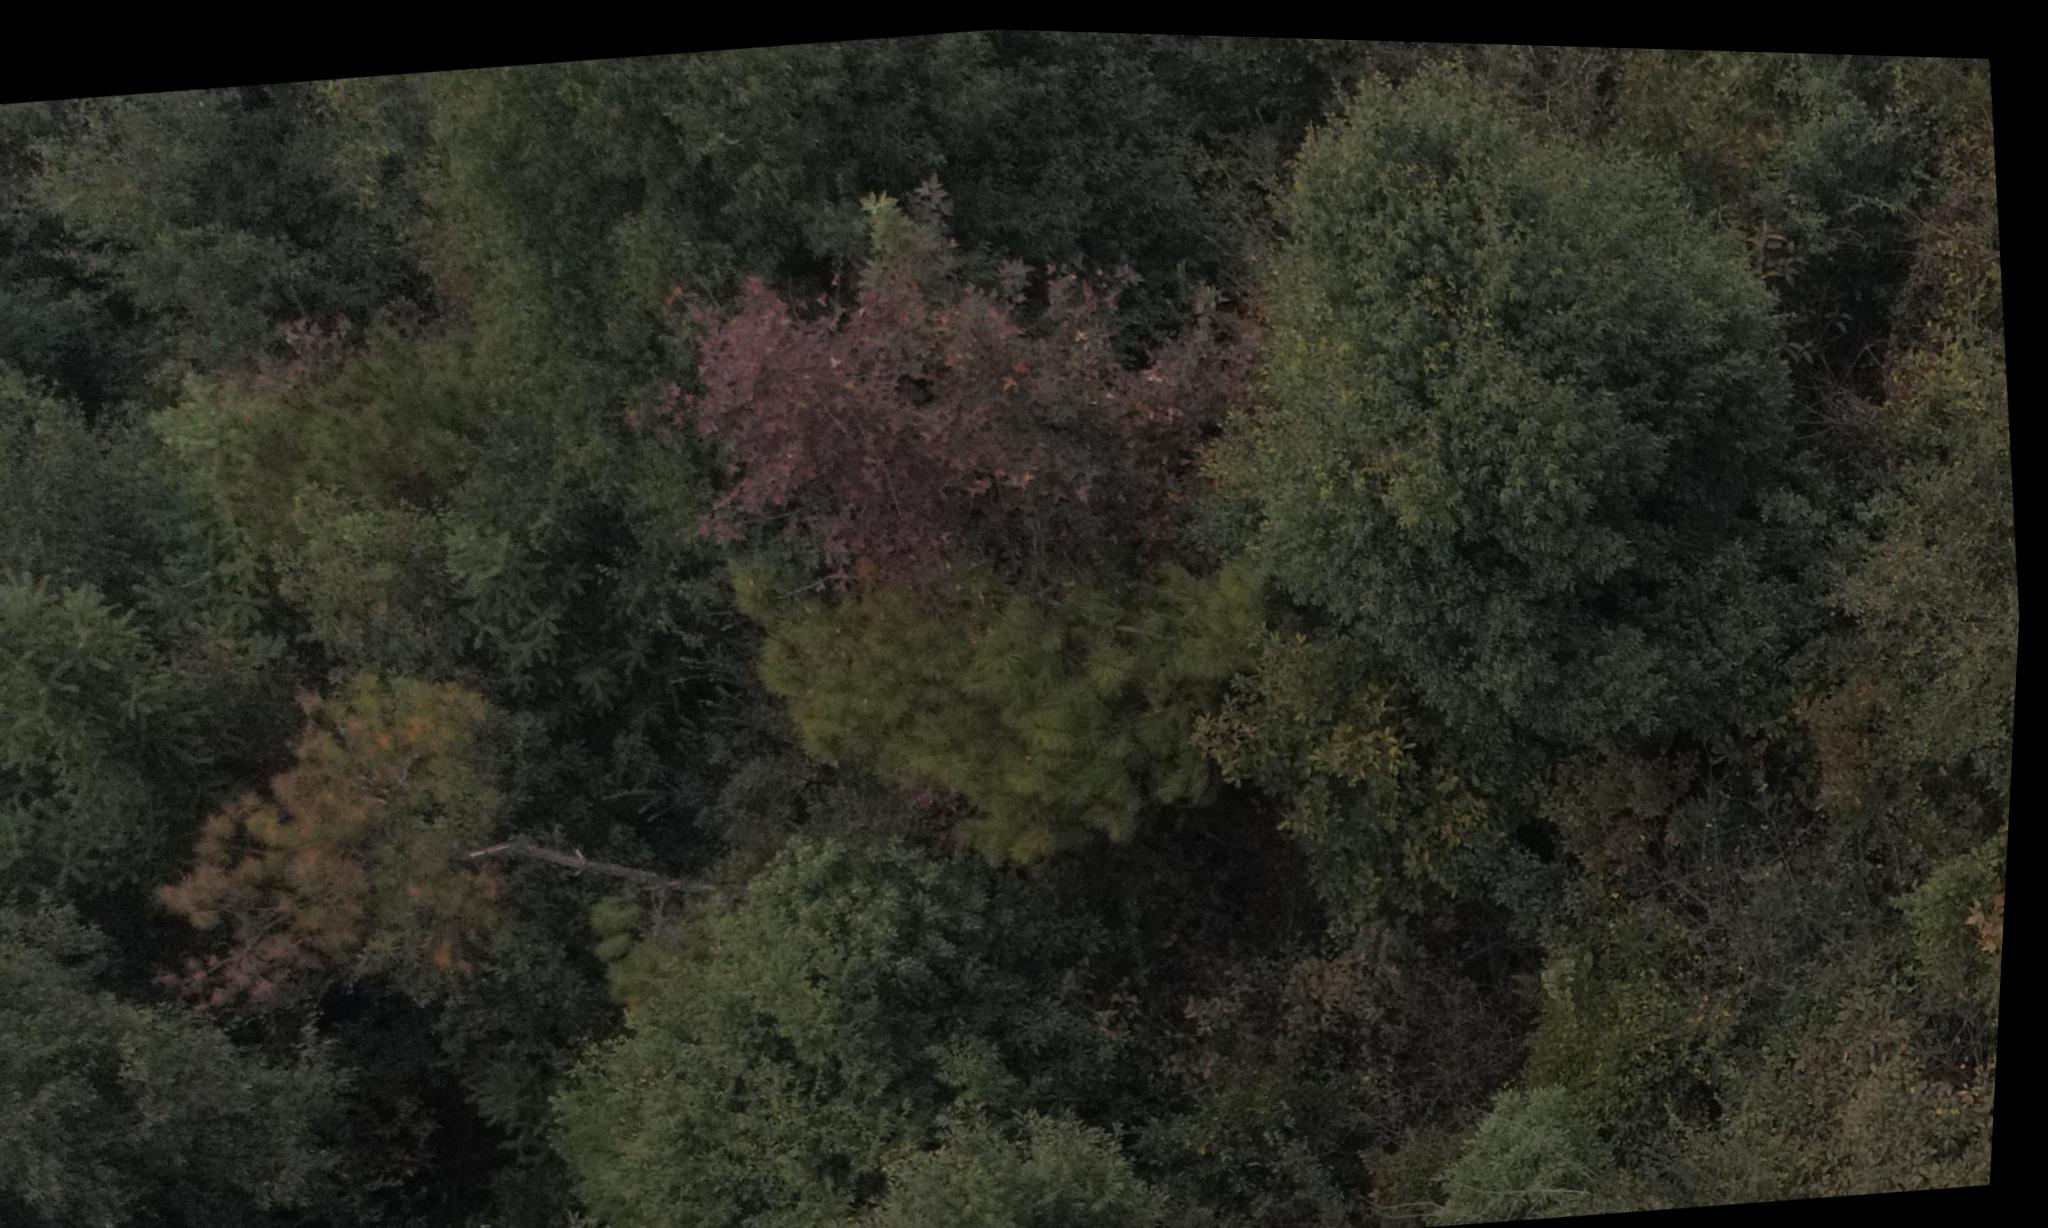light: (165, 656, 553, 1035)
